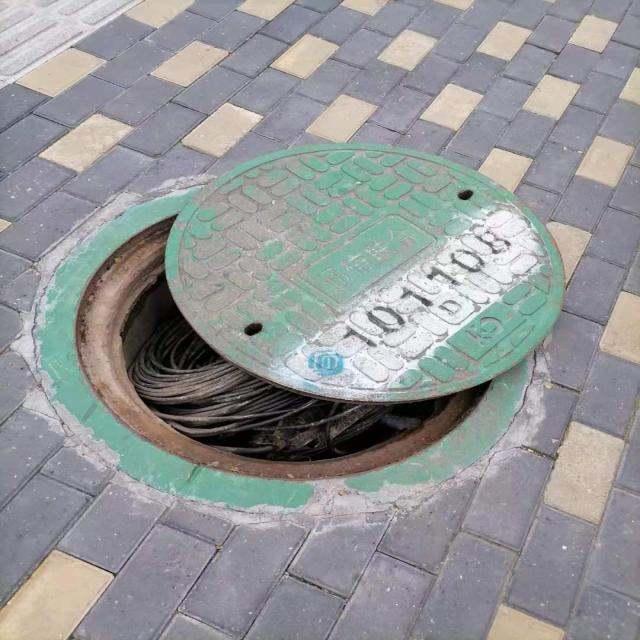Faulty: (35, 145, 569, 514)
